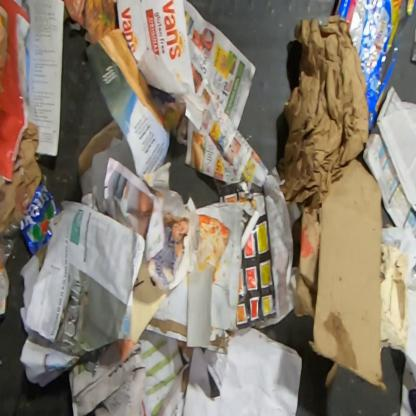cardboard: (309, 154, 387, 392), (0, 0, 32, 184), (380, 242, 410, 354), (294, 207, 321, 318), (78, 119, 124, 179), (326, 363, 340, 386)
metal: (19, 184, 62, 254)
soft_plastic: (334, 0, 416, 131), (0, 222, 20, 269)
